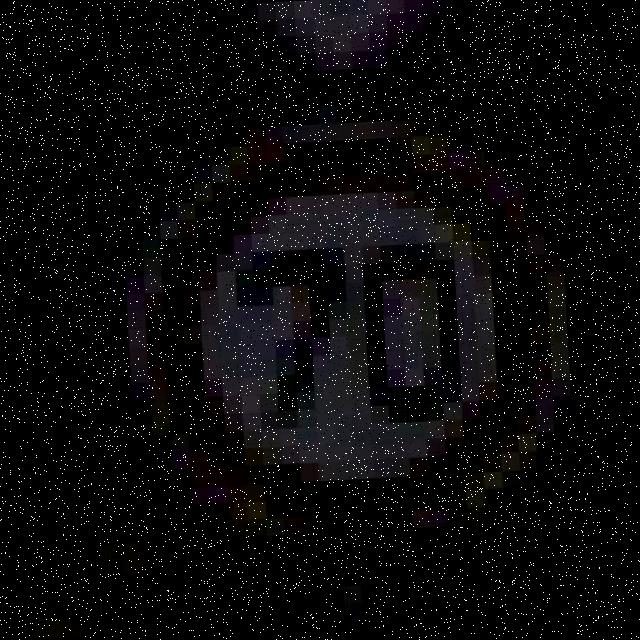Ograniczenie predkosci do 70: (131, 120, 569, 547)
